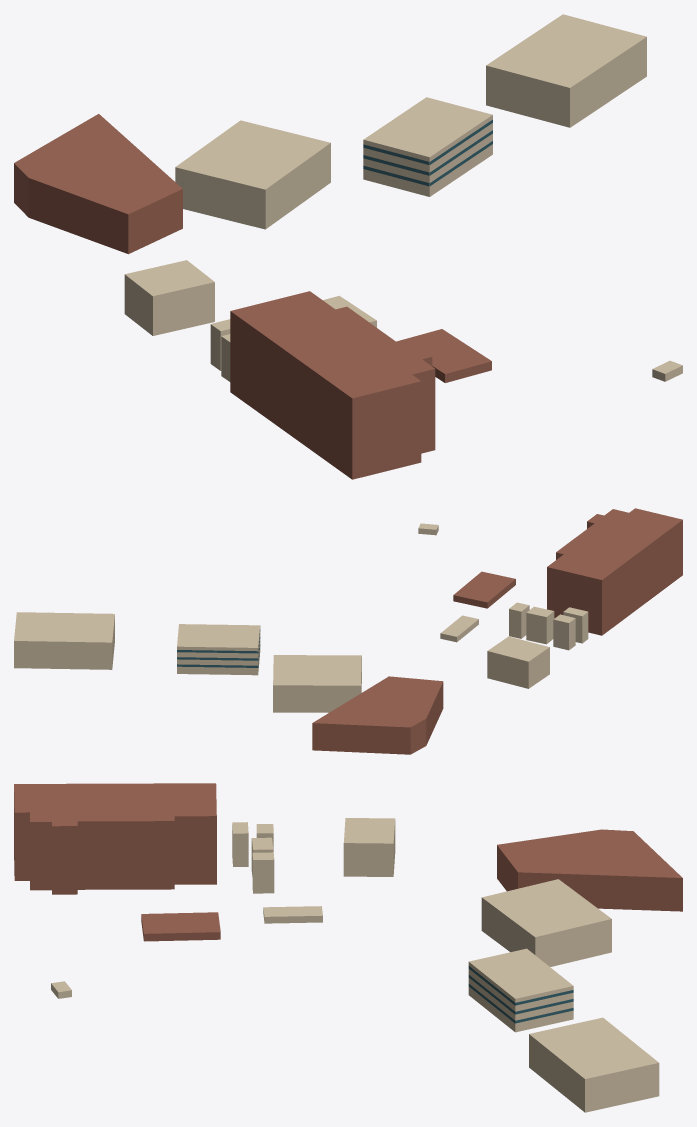
Rendered from city_-1_-4.glb.
3 views of the same model, one above another, from view 1: azimuth 30°, elevation 25°; view 2: azimuth 150°, elevation 25°; view 3: azimuth 270°, elevation 25° (orthographic). The views are drawn at different scales.
Parts seen in each view (by area): view 1: city_-1_-4; view 2: city_-1_-4; view 3: city_-1_-4.
Part boxes in pixels (box(x1,y1,x2,y2)): city_-1_-4: box(14, 14, 682, 479); city_-1_-4: box(14, 508, 682, 754); city_-1_-4: box(14, 783, 682, 1112).
Bounding box in the file's own units: 251 × 30.6 × 271.
